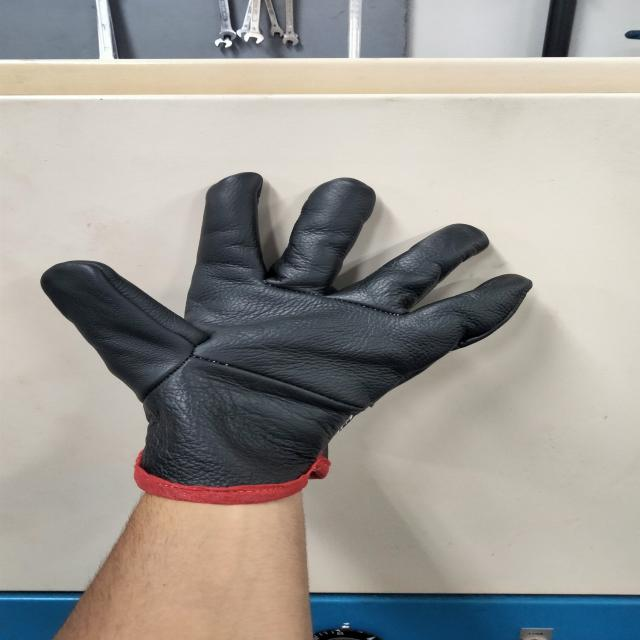Gloves: (52, 171, 534, 500)
